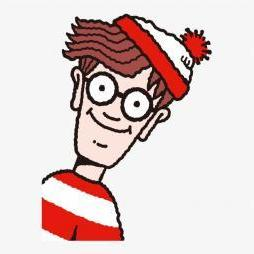waldos: (33, 10, 218, 247)
